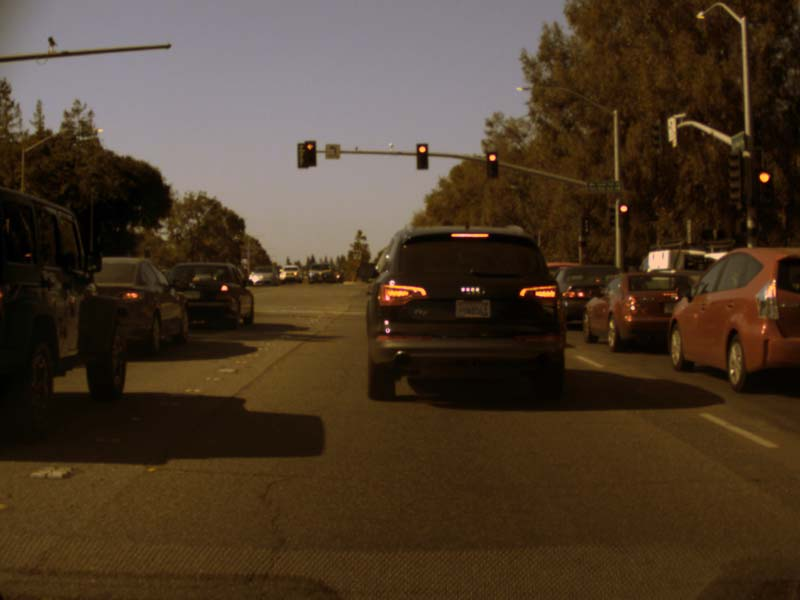Red: (755, 169, 773, 208), (415, 143, 429, 170), (486, 151, 499, 178), (303, 142, 315, 166), (618, 203, 628, 227)
